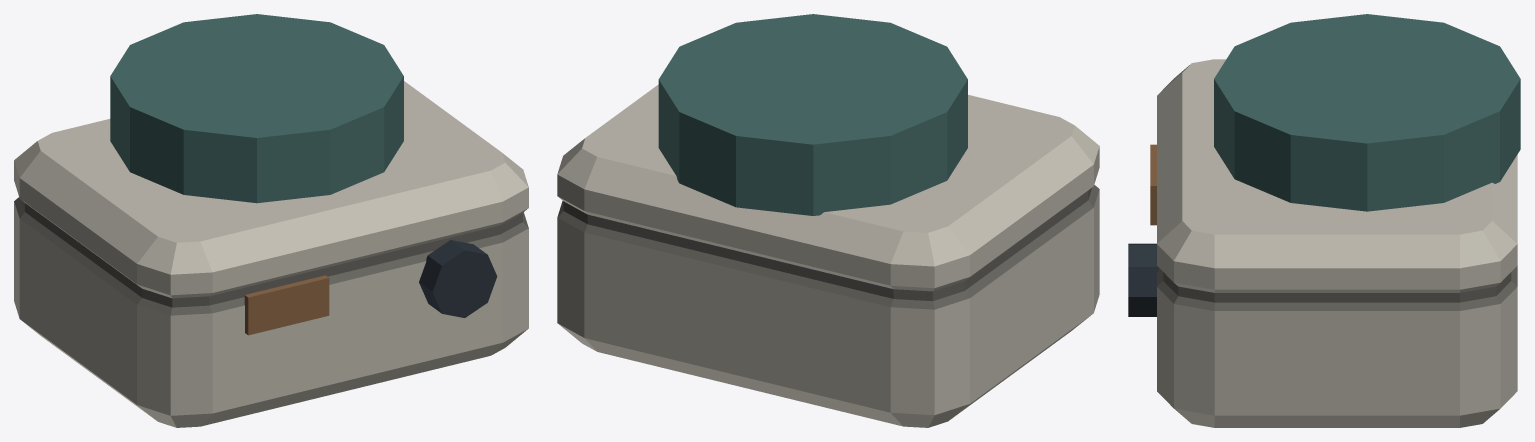
Rendered from L-14_centrifuge.glb.
3 renders of one model, left to right at view 1: azimuth 30°, elevation 25°; view 2: azimuth 150°, elevation 25°; view 3: azimuth 270°, elevation 25°, orthographic. The views are drawn at different scales.
Parts seen in each view (by area): view 1: L-14_centrifuge; view 2: L-14_centrifuge; view 3: L-14_centrifuge.
Boxes of the visible parts, left/top/right/bottom form: L-14_centrifuge: left=14, top=14, right=528, bottom=427; L-14_centrifuge: left=557, top=14, right=1099, bottom=427; L-14_centrifuge: left=1128, top=14, right=1520, bottom=427.
Bounding box in the file's own units: 0.31 × 0.192 × 0.261.
